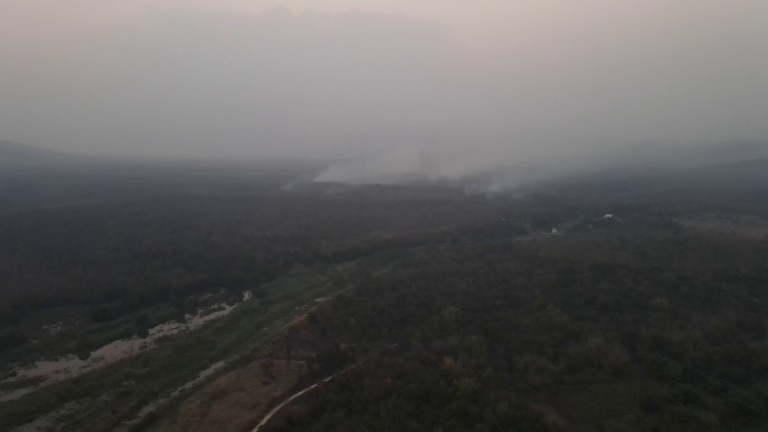smoke: (312, 117, 552, 201)
